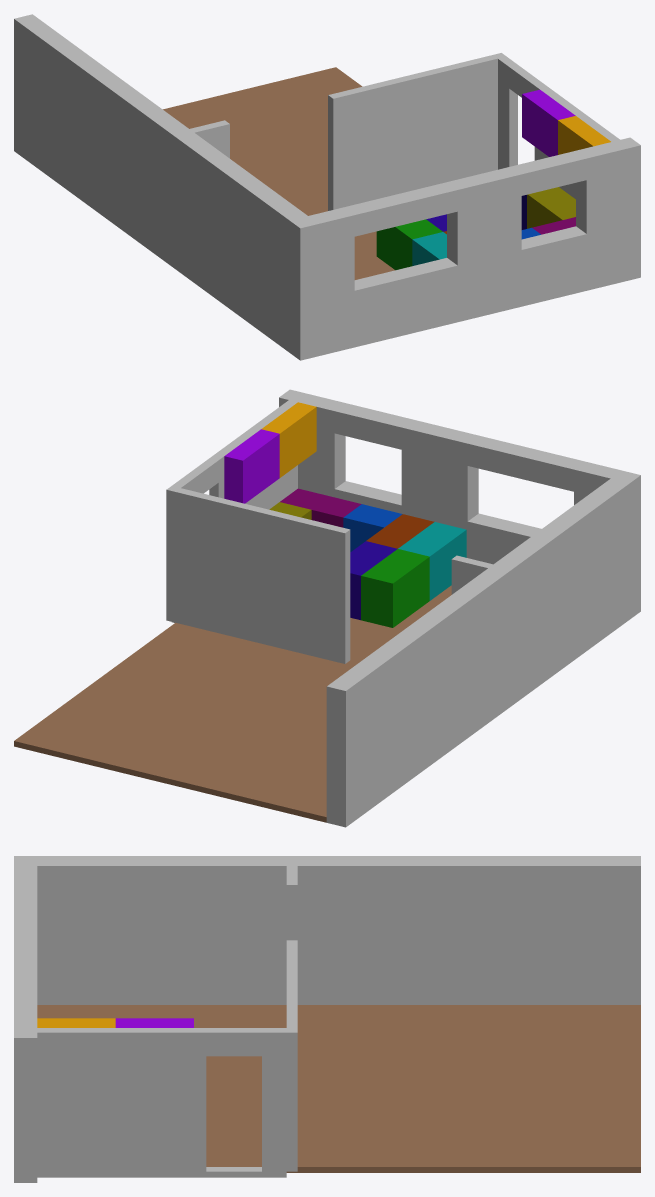
The model's file is Kueche.fbx.
The picture shows the model from 3 angles, top to bottom: view 1: azimuth 30°, elevation 25°; view 2: azimuth 150°, elevation 25°; view 3: azimuth 270°, elevation 25°; orthographic projection. The views are drawn at different scales.
Parts seen in each view (by area): view 1: Cube, Cube.002, Cube.001, Boden, Cube.012, Cube.010, Cube.004, Cube.011, Cube.007; view 2: Cube, Boden, Cube.001, Cube.002, Cube.010, Cube.012, Cube.007, Cube.011, Cube.003, Cube.006, Cube.005, Cube.008; view 3: Cube, Boden, Cube.001, Cube.002, Cube.011, Cube.012.
Part boxes in pixels (x1,y1,x2,y2): Cube: (14, 14, 318, 360); Cube.002: (308, 137, 640, 355); Cube.001: (328, 53, 619, 210); Boden: (163, 67, 394, 279); Cube.012: (522, 89, 575, 156); Cube.010: (376, 219, 442, 270); Cube.004: (527, 187, 575, 228); Cube.011: (558, 116, 610, 154); Cube.007: (412, 232, 446, 265); Cube: (326, 470, 640, 827); Boden: (14, 585, 451, 822); Cube.001: (166, 400, 350, 663); Cube.002: (279, 389, 621, 564); Cube.010: (361, 549, 429, 627); Cube.012: (224, 429, 279, 503); Cube.007: (398, 522, 466, 600); Cube.011: (261, 402, 316, 477); Cube.003: (280, 488, 361, 527); Cube.006: (350, 541, 397, 620); Cube.005: (343, 504, 402, 551); Cube.008: (366, 514, 434, 548); Cube: (14, 856, 640, 1004); Boden: (37, 1005, 640, 1172); Cube.001: (37, 940, 297, 1177); Cube.002: (14, 866, 37, 1182); Cube.011: (37, 1018, 115, 1027); Cube.012: (115, 1018, 193, 1027).
Bounding box in the file's own units: 660 × 245 × 961.
